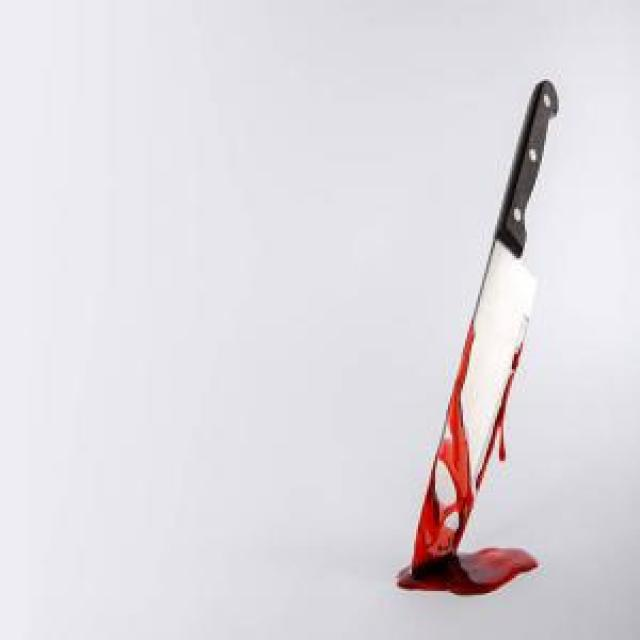knife: (412, 69, 560, 584)
